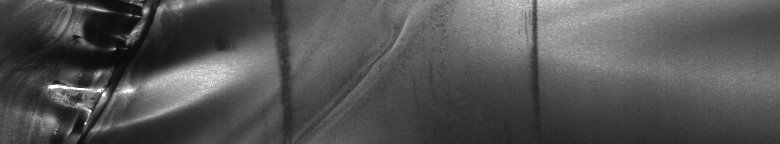ke: (31, 4, 287, 136)
